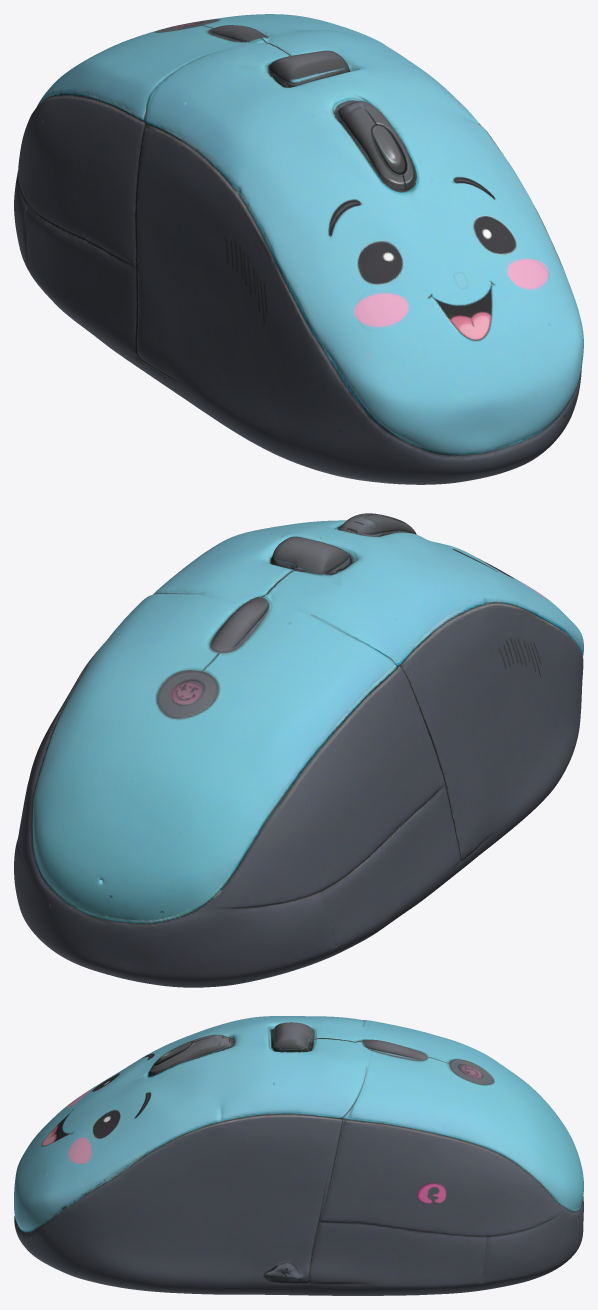
File: mouse.glb
3 renders of one model, top to bottom at view 1: azimuth 30°, elevation 25°; view 2: azimuth 150°, elevation 25°; view 3: azimuth 270°, elevation 25°, orthographic. The views are drawn at different scales.
Size of the model in its own units: 32225 by 28283 by 65499.
Materials: 1 (1 with a texture image).
